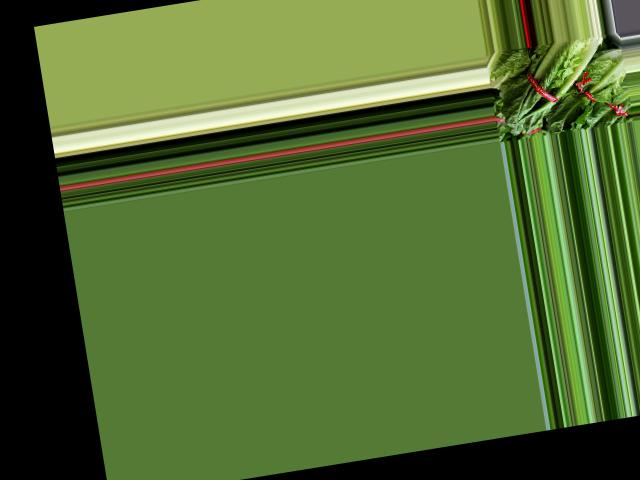lettuce: (491, 34, 614, 137)
